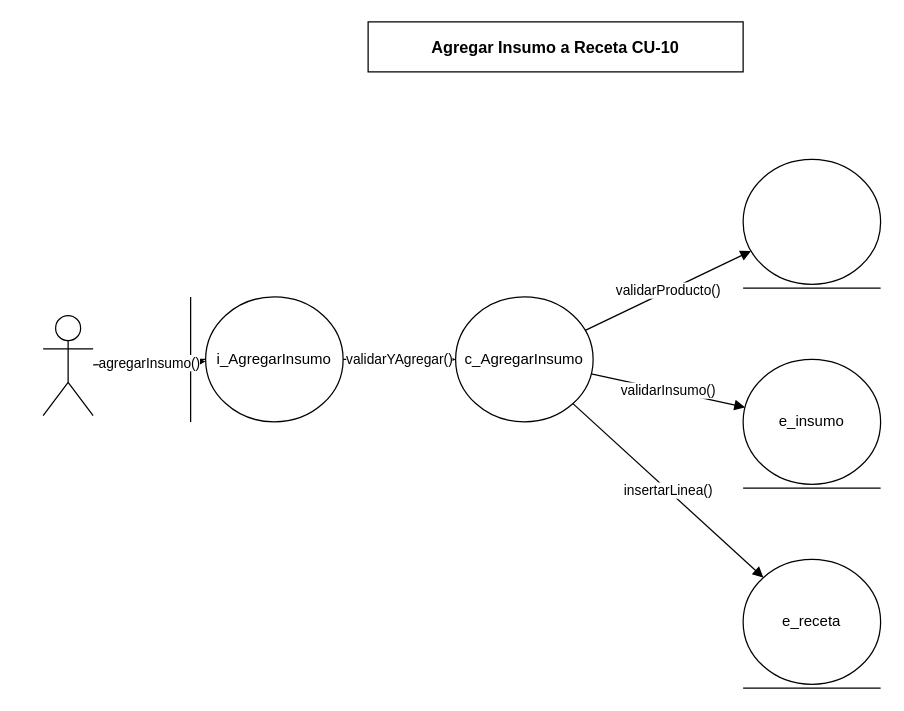
Some shapes in this 904 by 711 pixel diagram are drawn without their labels. Each missing label, with the centre of its shape:
"Administrador" goes at point 67,365.
"e_producto" goes at point 811,221.
